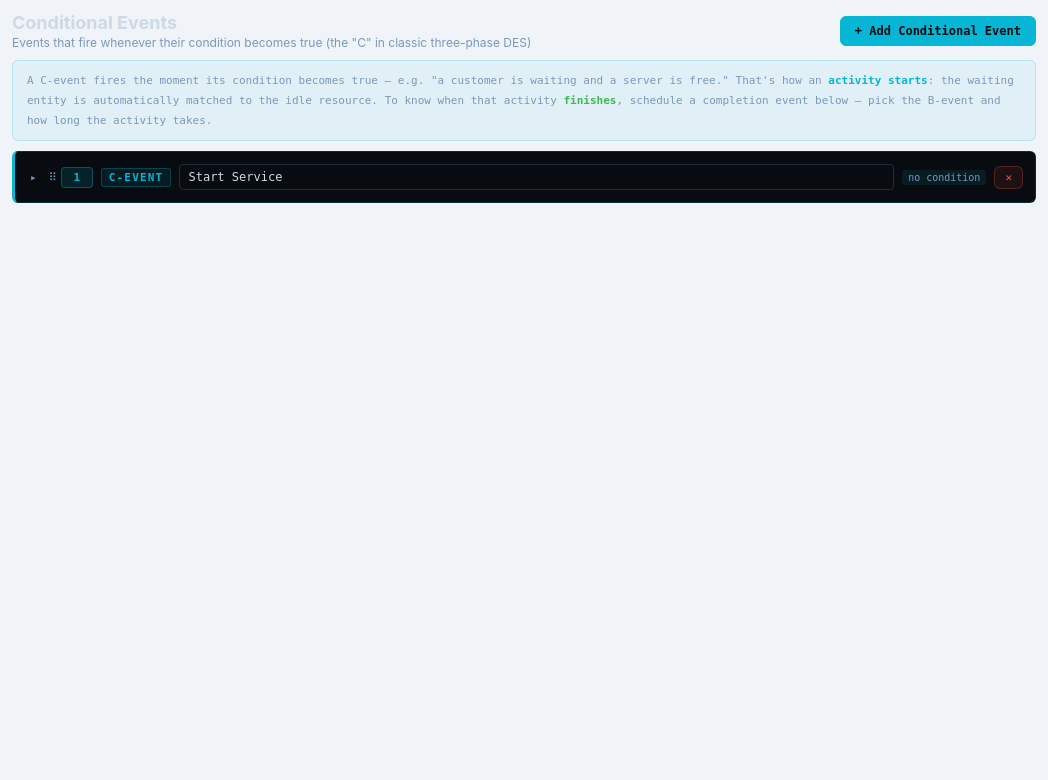
it: CEventEditor — follow-on B-event labels › strips template wording from the scheduled follow-on preview
Card is collapsed by default — expand it first
Click the button named "Expand" at (33, 177), box x1=27 y1=170 x2=40 y2=185
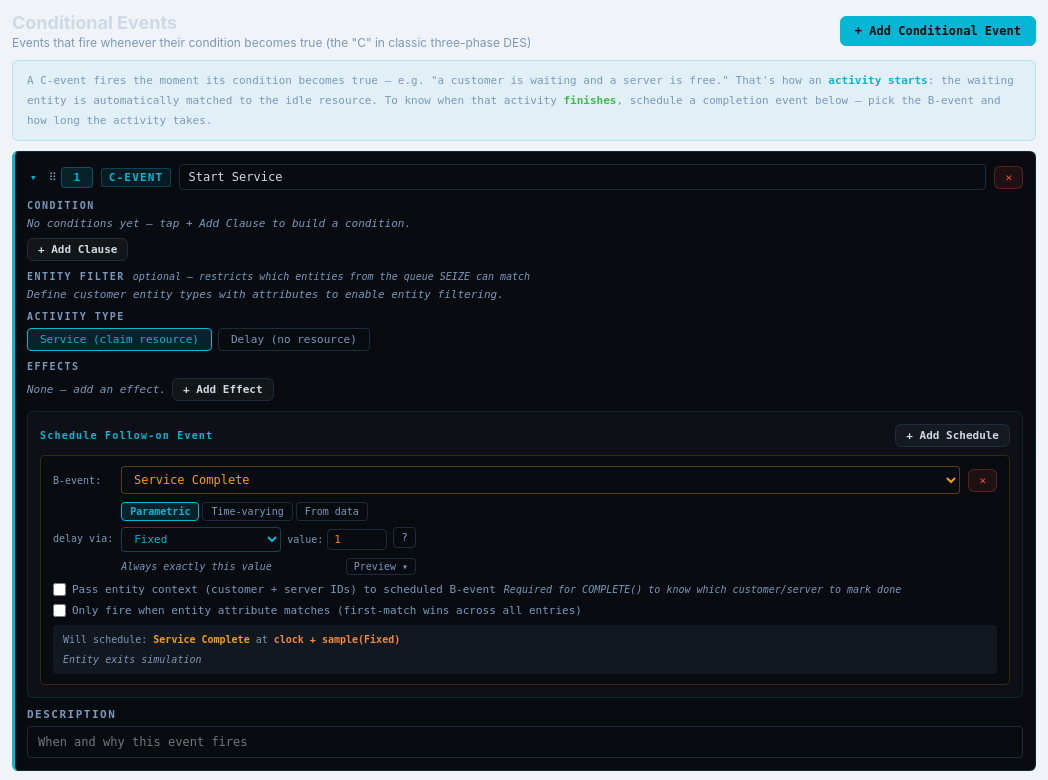
Expected: the text "Will schedule:" shows "Will schedule: Service Complete", x1=53 y1=625 x2=997 y2=674
